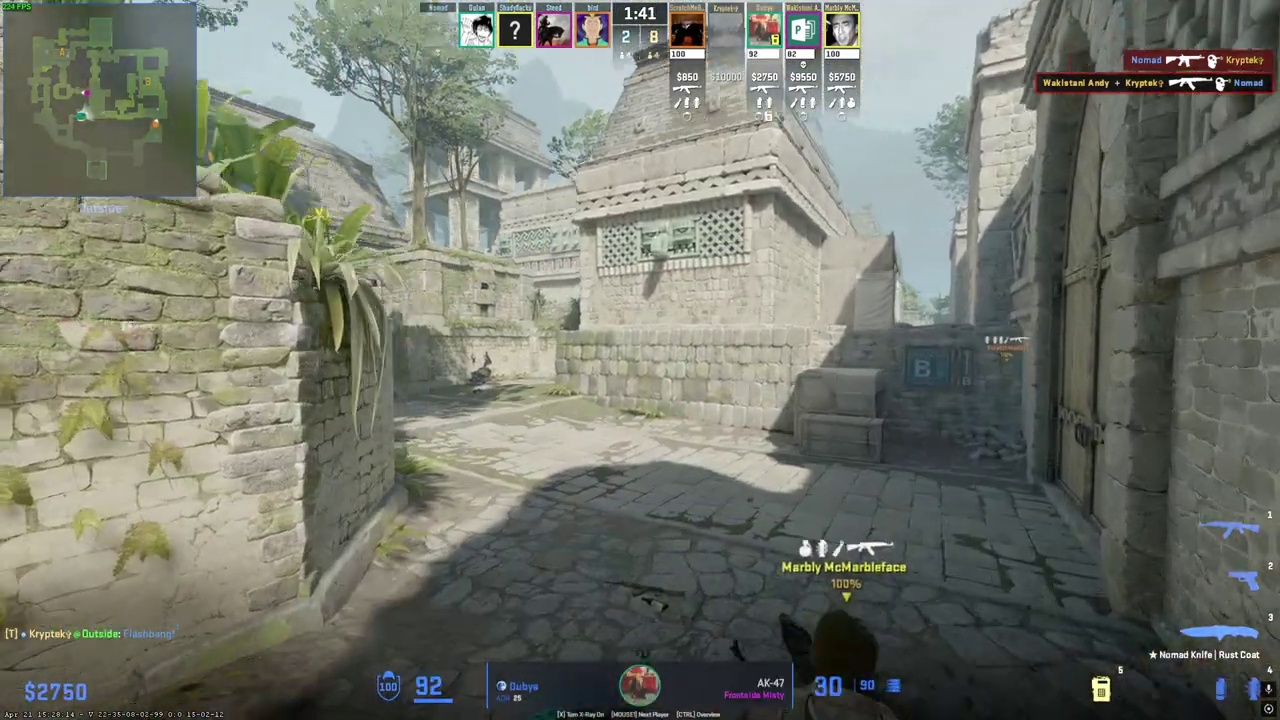Terrorist: (745, 609, 897, 720)
